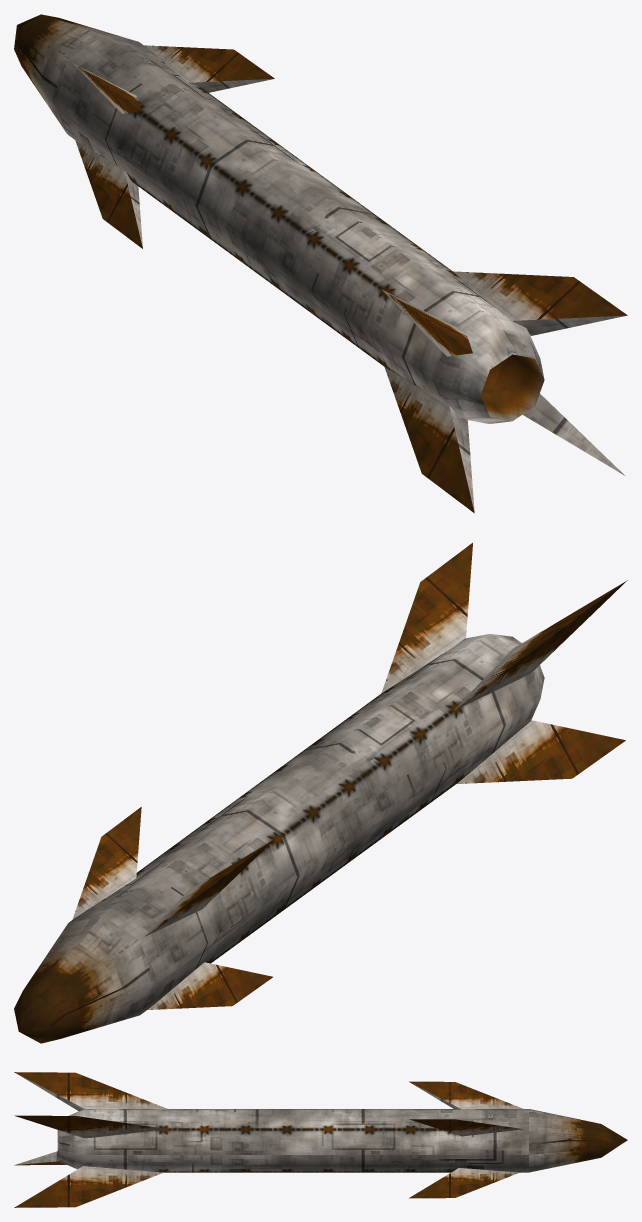
Rendered from Missile - FBX.FBX.
The picture shows the model from 3 angles, top to bottom: view 1: azimuth 30°, elevation 25°; view 2: azimuth 150°, elevation 25°; view 3: azimuth 270°, elevation 25°; orthographic projection. The views are drawn at different scales.
Parts seen in each view (by area): view 1: Missile; view 2: Missile; view 3: Missile.
Part boxes in pixels (x1,y1,x2,y2): Missile: (14,14,627,513); Missile: (14,542,627,1043); Missile: (14,1072,627,1207).
Size of the model in its own units: 20.64 by 20.48 by 123.
1 material, 1 textured.
